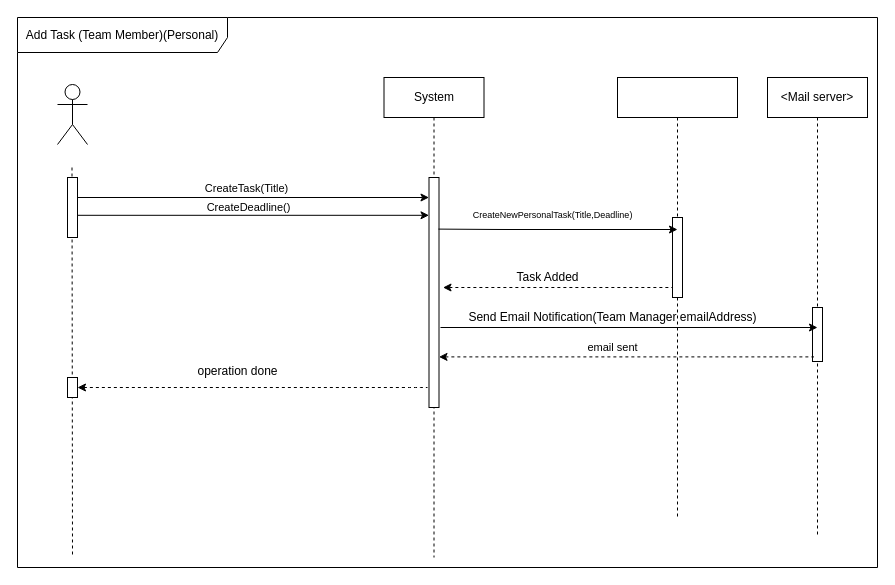
The diagram is 895 pixels wide and 585 high, and some of its shapes have lost their labels. The centre of each missing label's shape, as x and y in pixels:
"TaskDatabase" goes at [677,297].
"Team Member" goes at [72,114].
